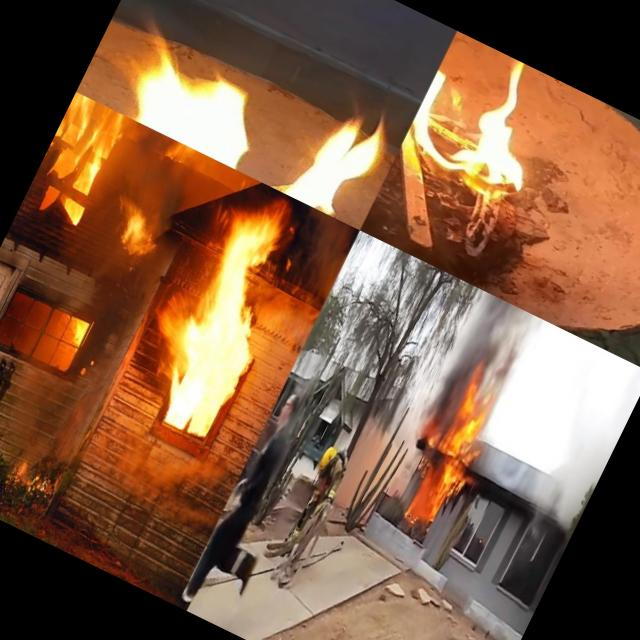fire: (75, 0, 418, 230), (134, 197, 314, 447), (390, 31, 586, 230), (29, 92, 131, 214), (411, 388, 499, 518), (95, 188, 174, 274), (5, 446, 60, 502), (56, 311, 91, 352)
smoke: (444, 299, 536, 402)
